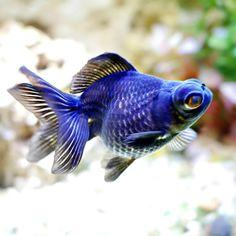goldfish: (22, 45, 222, 188)
